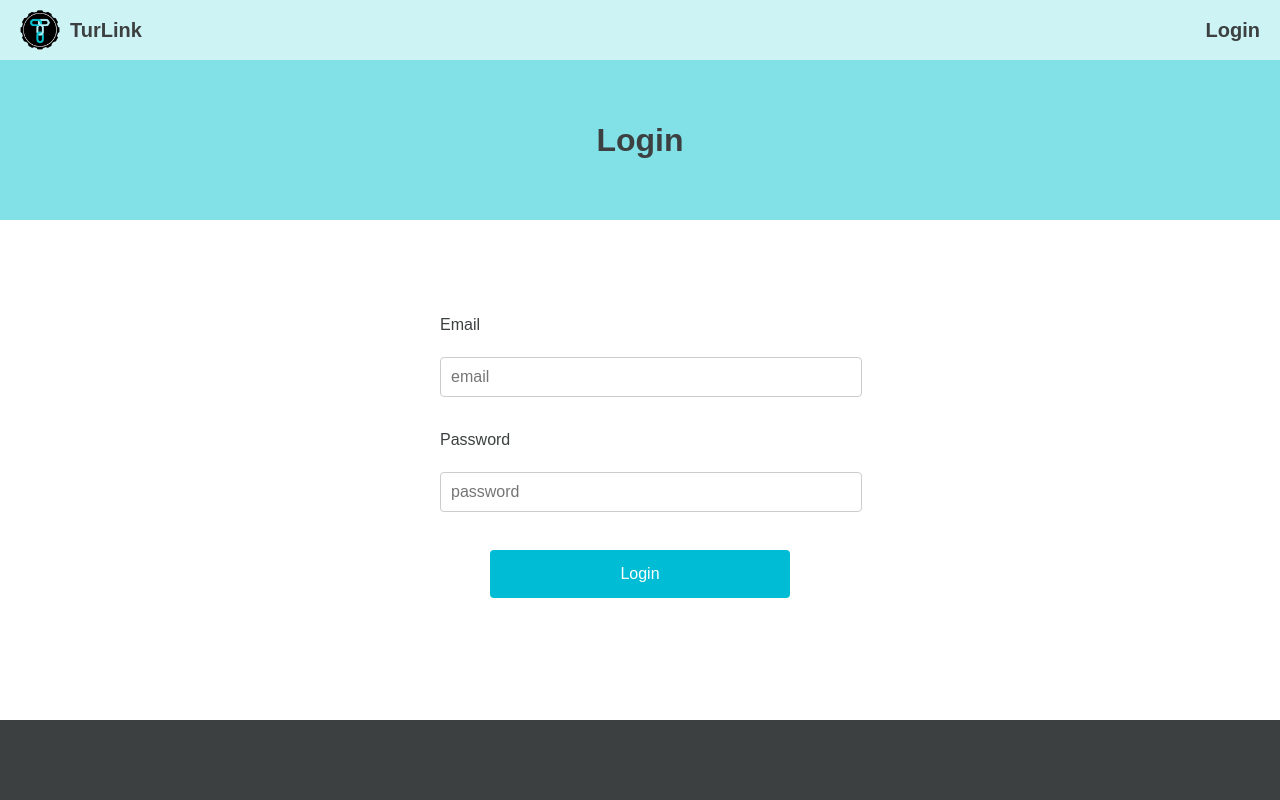
it: Login Page Tests › should submit an original link and return a shortened link
Type "kim@example.com" into the field with class "email-input".
click(651, 377); type("kim@example.com")  # box x1=440 y1=357 x2=862 y2=397
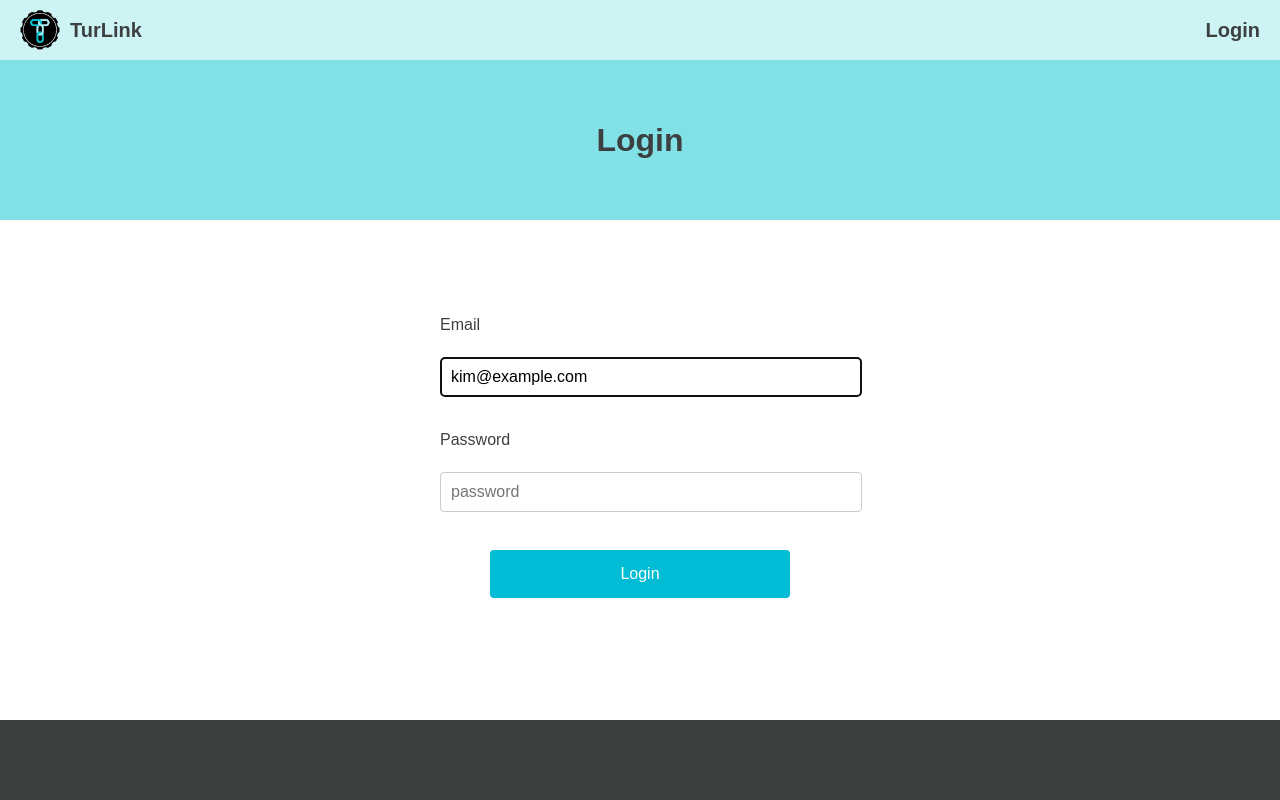
Type "kim123" into the password field with placeholder "password".
click(651, 492); type("kim123")  # box x1=440 y1=472 x2=862 y2=512
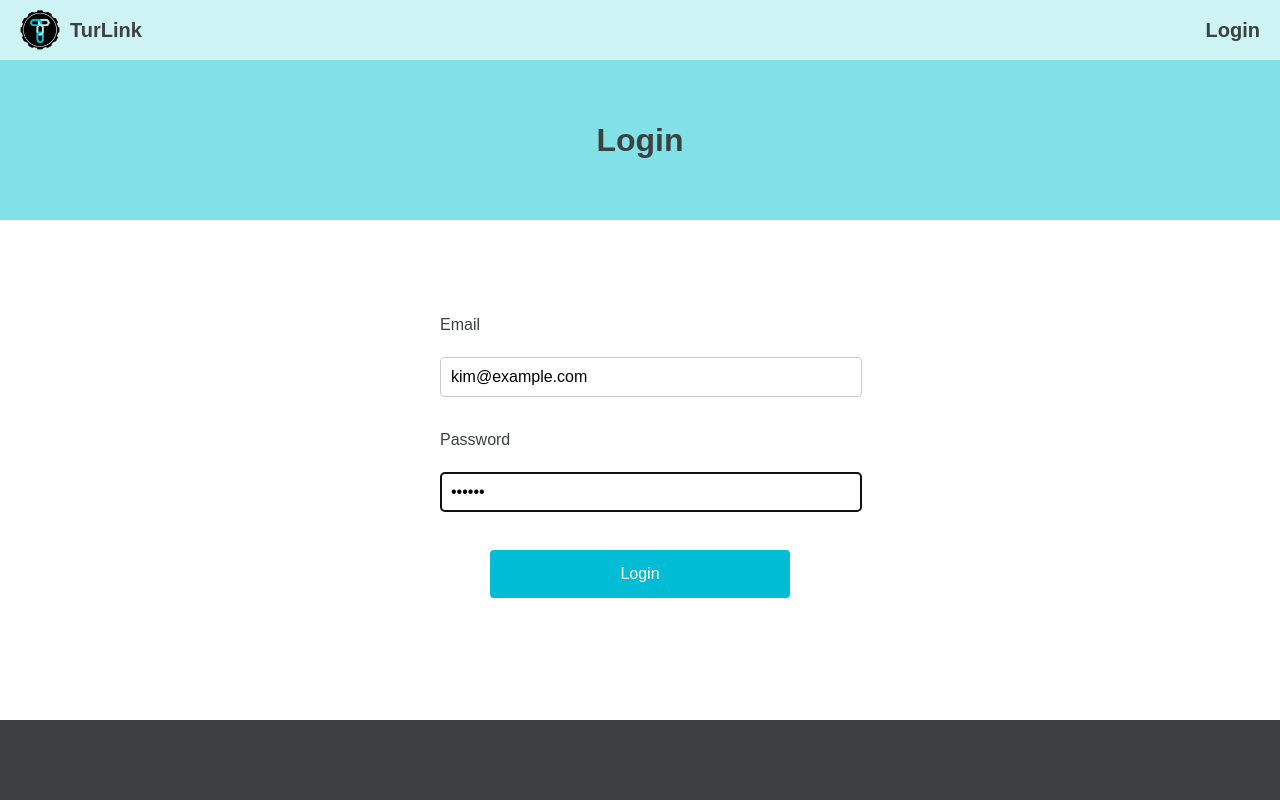
Click the button with class "login-button".
click(640, 574)  # box x1=490 y1=550 x2=790 y2=598
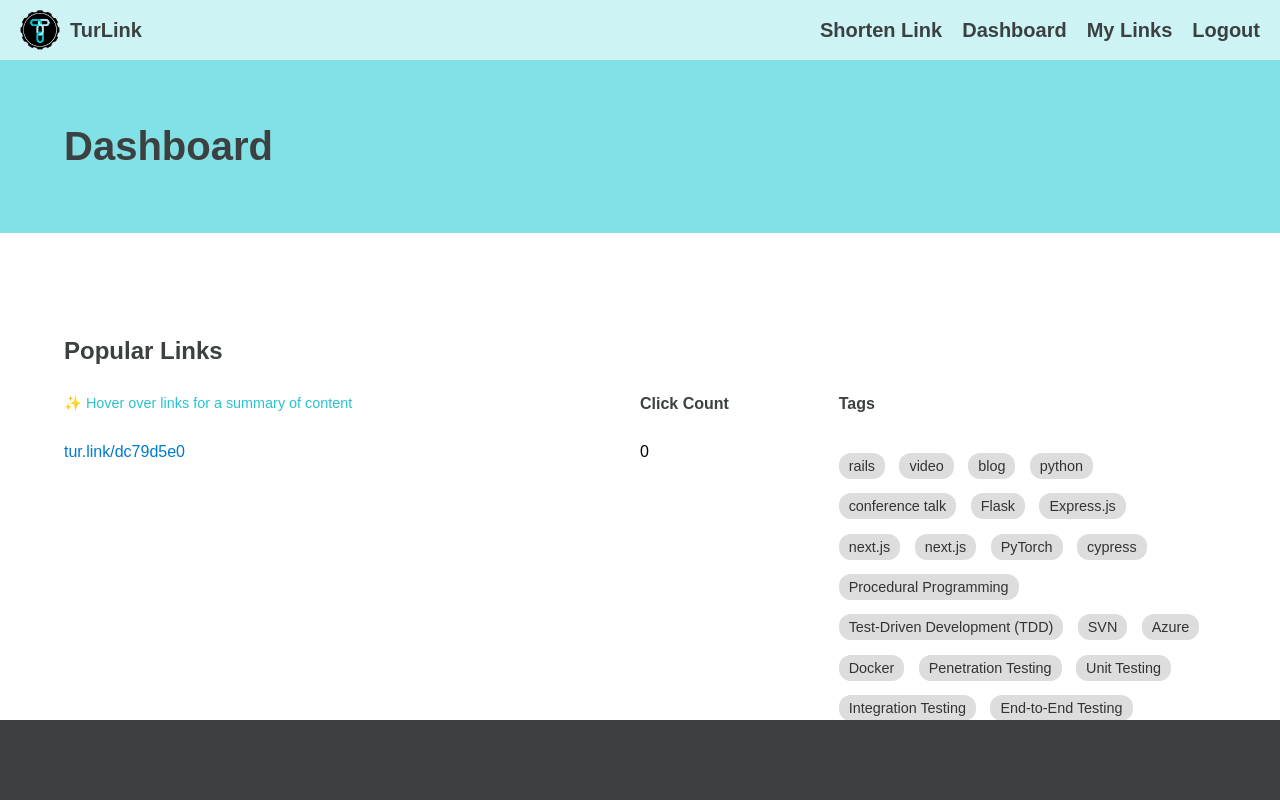
Expected: the navigation bar with class "navbar" is shown, x1=20 y1=10 x2=1260 y2=50
Expected: the heading with class "dashboard-header" reads "Dashboard", x1=64 y1=124 x2=273 y2=168
Click the link to "/shortenlink".
click(881, 31)  # box x1=820 y1=19 x2=942 y2=42
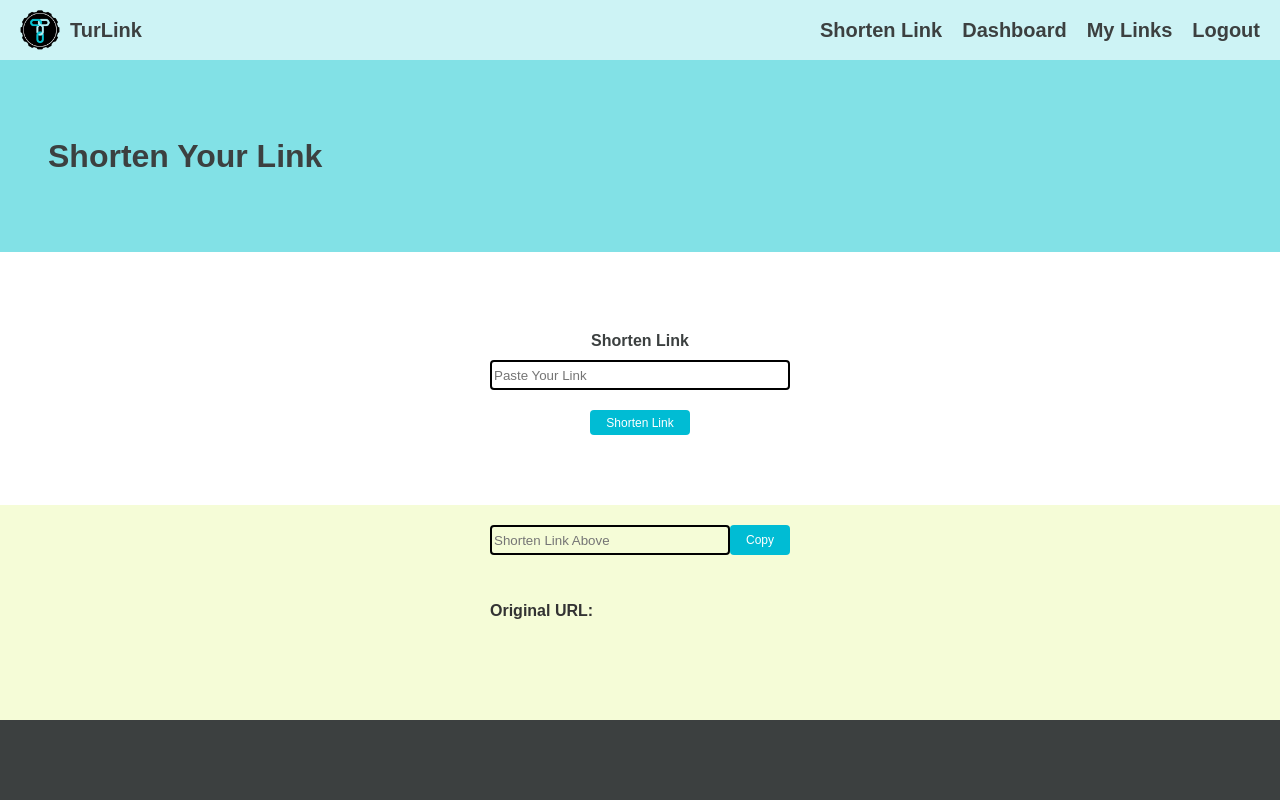
Type "www.example.com/CypressExample" into the field with class "shorten-link-input".
click(640, 375); type("www.example.com/CypressExample")  # box x1=490 y1=360 x2=790 y2=390
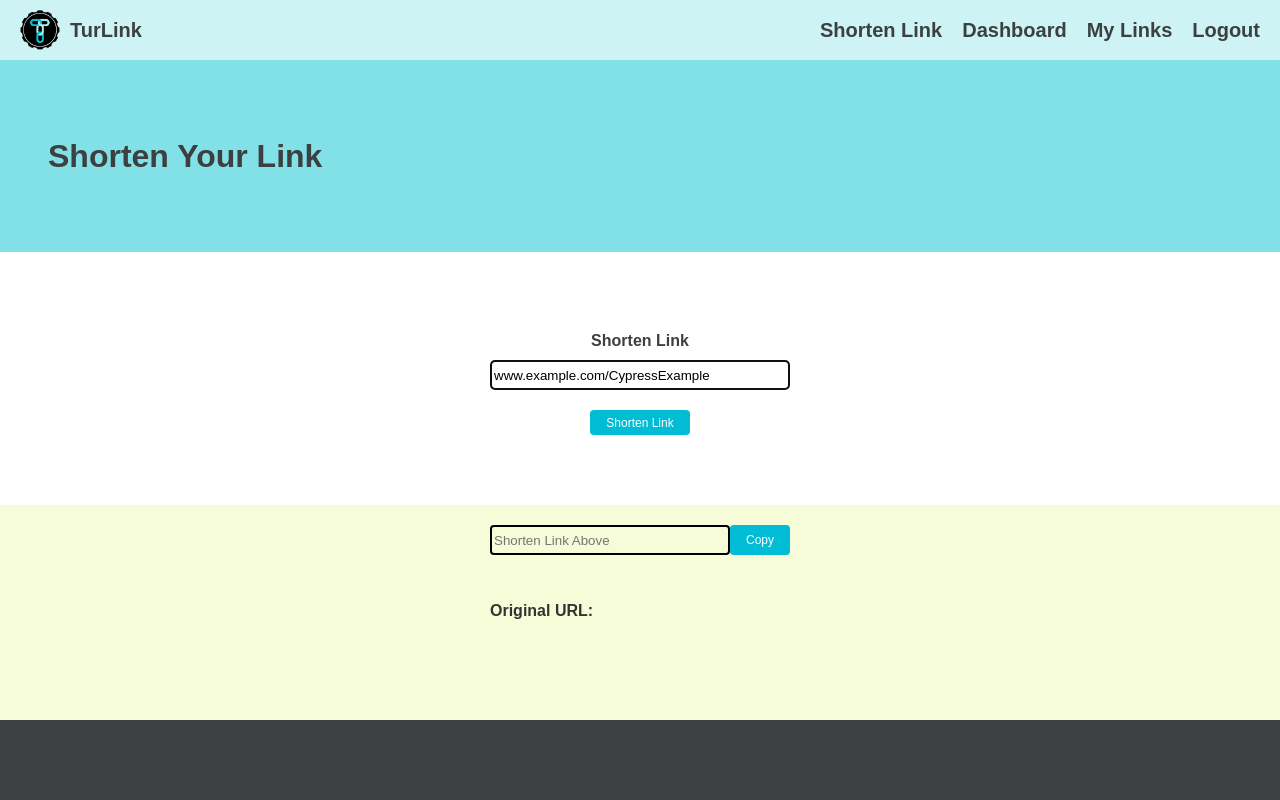
Click the button with class "shorten-link-button".
click(640, 423)  # box x1=590 y1=410 x2=690 y2=435
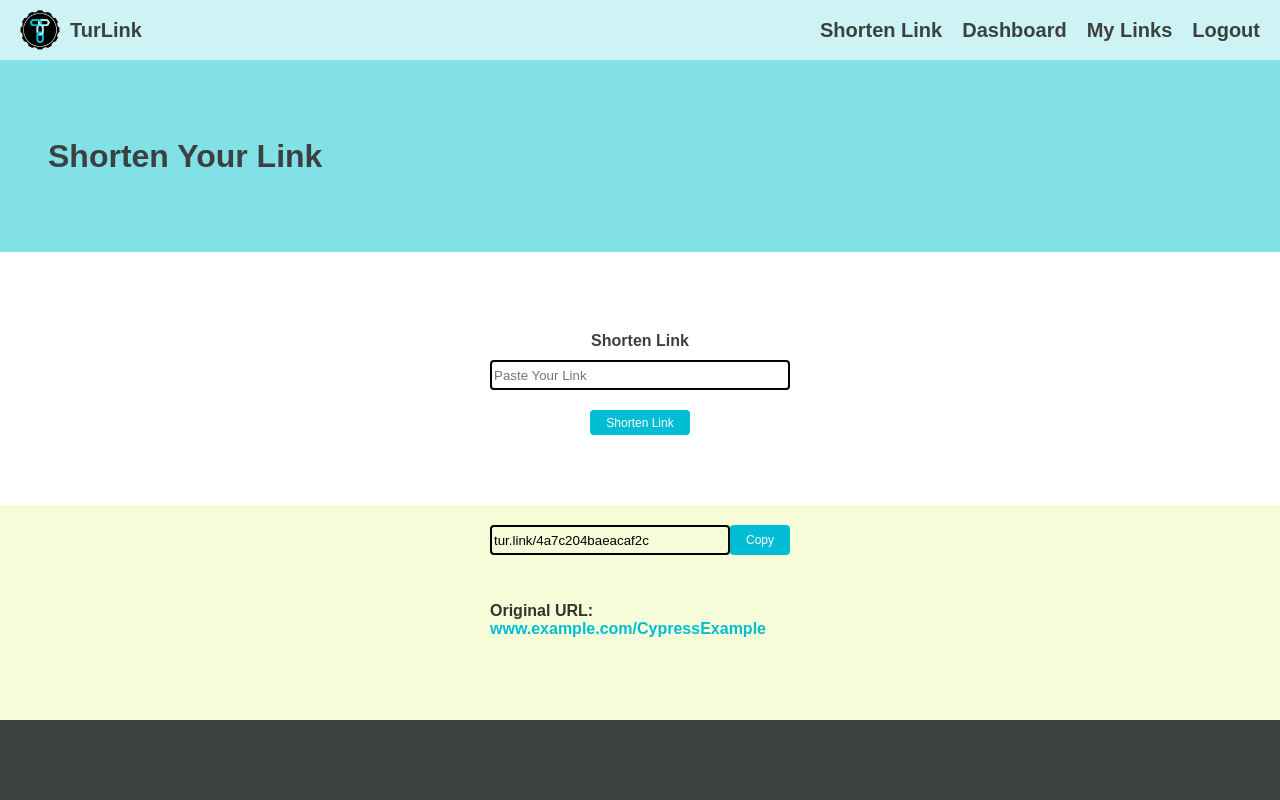
Expected: the field with class "shortened-link-input" holds "tur.link/4a7c204baeacaf2c", x1=490 y1=525 x2=730 y2=555
